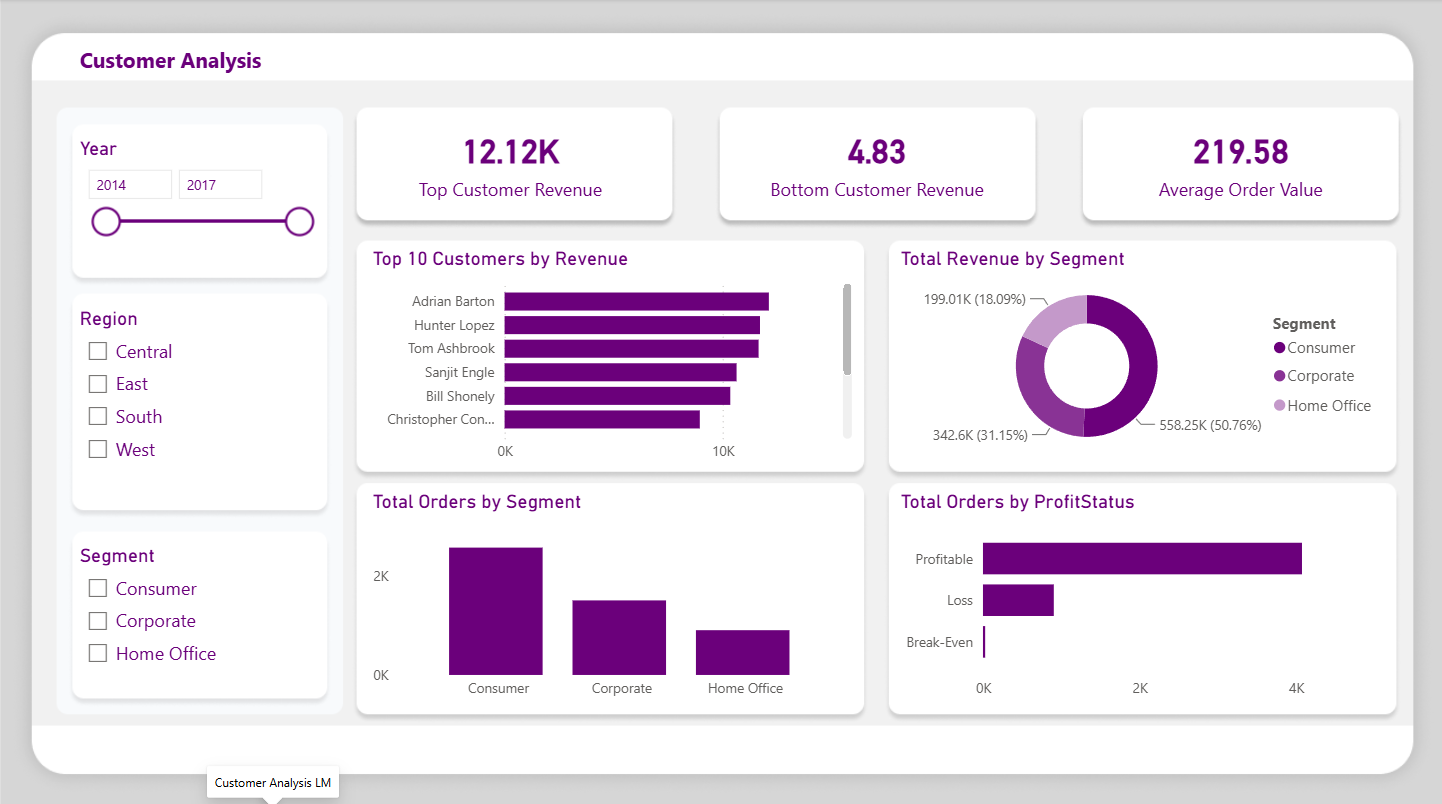

The dashboard page shown, as its layout file describes it:
{"tool":"powerbi","page":{"name":" Customer Analysis DM","canvas":[1280,720],"ordinal":6},"visuals":[{"type":"card","fields":{"Values":["DaxMeasures.Top Customer Revenue"]},"box":[334,99,242,90],"z":0},{"type":"slicer","title":"Year","fields":{"Values":["DimDate.Year"]},"box":[65.6,117,221.7,122.4],"z":1000},{"type":"slicer","title":"Region ","fields":{"Values":["DimRegion.Region"]},"box":[65.6,272.2,221.7,178.2],"z":2000},{"type":"slicer","title":"Segment ","fields":{"Values":["DimCustomer.Segment"]},"box":[65.6,481.5,221.7,120.6],"z":3000},{"type":"card","fields":{"Values":["DaxMeasures.Average Order Value"]},"box":[967,104,262,80],"z":4000},{"type":"card","fields":{"Values":["DaxMeasures.Bottom Customer Revenue"]},"box":[657,104,236,80],"z":5000},{"type":"barChart","title":"Top 10 Customers by Revenue","fields":{"Y":["DaxMeasures.Total Revenue"],"Category":["DimCustomer.CustomerName"]},"box":[327,216,435,199],"z":6000},{"type":"donutChart","fields":{"Category":["DimCustomer.Segment"],"Y":["DaxMeasures.Total Revenue"]},"box":[792,220,437,192],"z":7000},{"type":"clusteredColumnChart","fields":{"Category":["DimCustomer.Segment"],"Y":["DaxMeasures.Total Orders"]},"box":[334,435,428,194],"z":8000},{"type":"clusteredBarChart","fields":{"Category":["Fact.ProfitStatus"],"Y":["DaxMeasures.Total Orders"]},"box":[792,435,437,194],"z":9000},{"type":"textbox","box":[65.6,28.4,299.7,43.4],"z":10000}]}

Visuals, with their boxes in screenshot pixels (x1, y1, x2, y2), scaled from the page's 1280x720 canvas onto the 1442x804 screenshot:
card - DaxMeasures.Top Customer Revenue: x1=376 y1=111 x2=649 y2=211
"Year" slicer: x1=74 y1=131 x2=324 y2=267
"Region " slicer: x1=74 y1=304 x2=324 y2=503
"Segment " slicer: x1=74 y1=538 x2=324 y2=672
card - DaxMeasures.Average Order Value: x1=1089 y1=116 x2=1385 y2=205
card - DaxMeasures.Bottom Customer Revenue: x1=740 y1=116 x2=1006 y2=205
"Top 10 Customers by Revenue" barChart: x1=368 y1=241 x2=858 y2=463
donutChart - DimCustomer.Segment x DaxMeasures.Total Revenue: x1=892 y1=246 x2=1385 y2=460
clusteredColumnChart - DimCustomer.Segment x DaxMeasures.Total Orders: x1=376 y1=486 x2=858 y2=702
clusteredBarChart - Fact.ProfitStatus x DaxMeasures.Total Orders: x1=892 y1=486 x2=1385 y2=702
textbox: x1=74 y1=32 x2=412 y2=80
